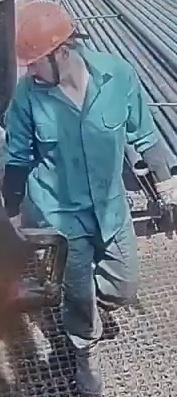gloves: (153, 175, 177, 227)
helmet: (14, 0, 75, 67)
vest: (9, 42, 157, 248)
